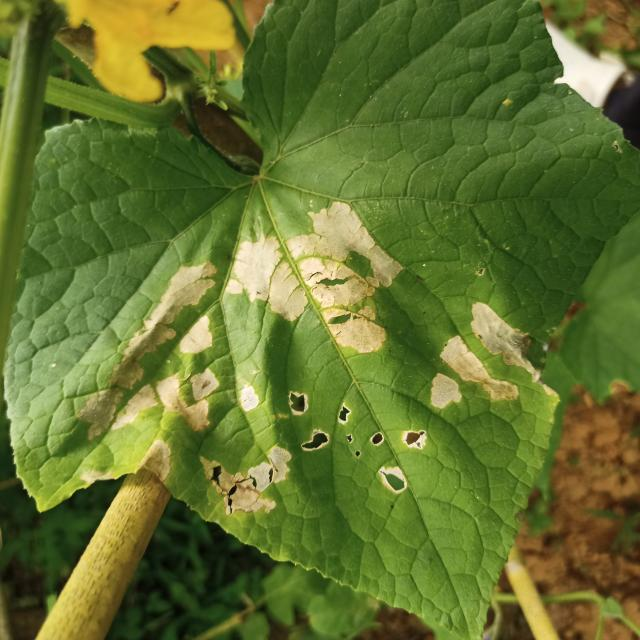disease_cucumber: (79, 202, 557, 513)
